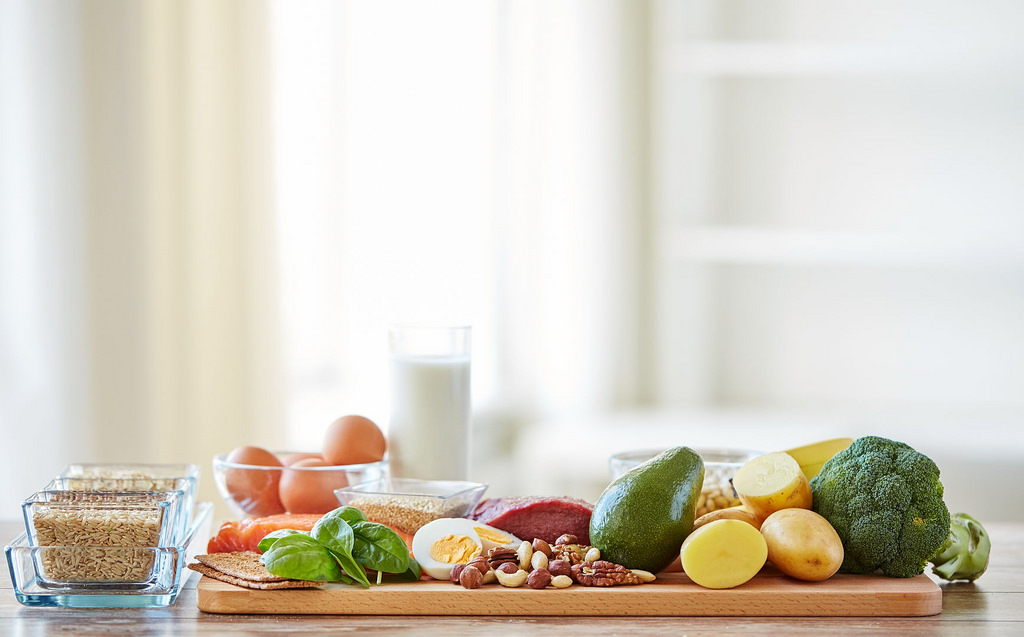boiled potatoes: (760, 502, 849, 580), (680, 515, 771, 587), (731, 448, 813, 516)
chopped lettuce: (264, 516, 424, 592)
glass of milk: (382, 315, 480, 492)
plain rice: (23, 491, 170, 585)
